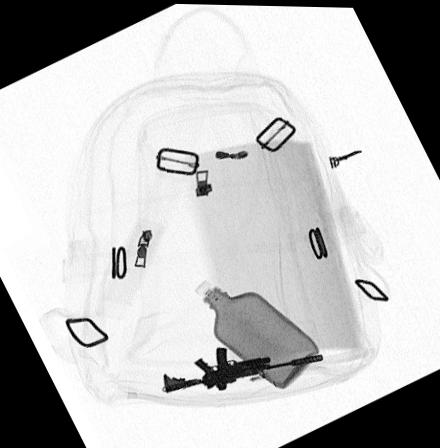Gun: (161, 346, 323, 393)
